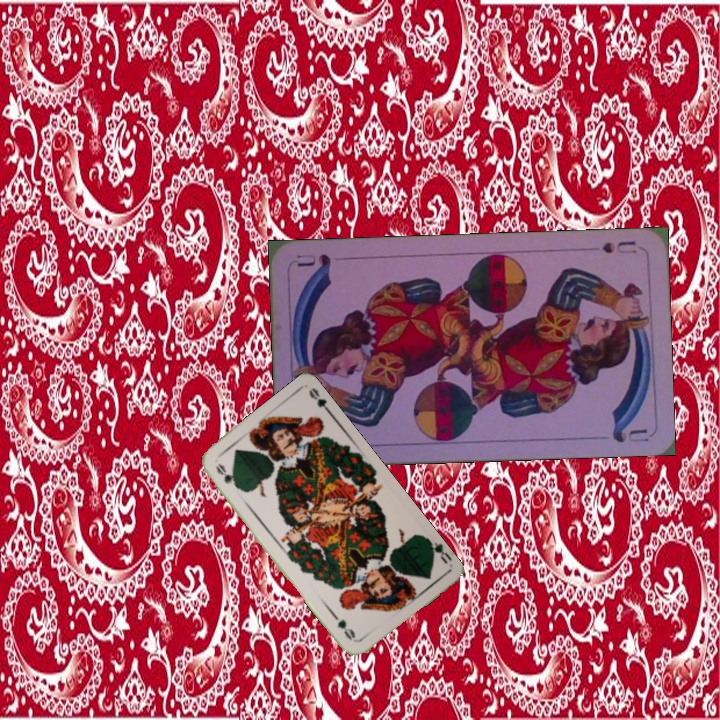GO: (211, 459, 243, 492), (421, 534, 453, 567)
SU: (598, 237, 639, 257)
